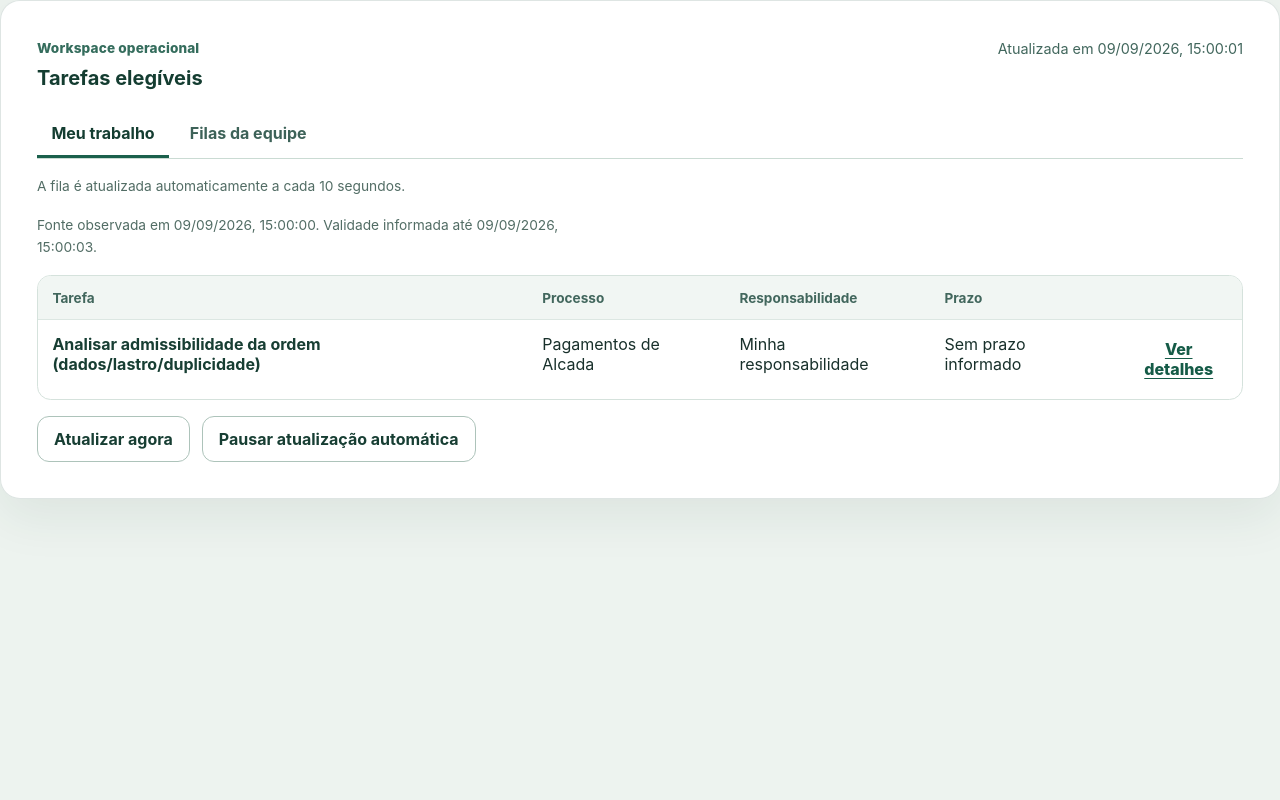
Test: the retained queue ceiling aborts both pending lanes and cannot be renewed by their late responses
The image size is (1280, 800).
Click the button named "Ver detalhes: Analisar admissibilidade da ordem (dados/lastro/duplicidade)": (1179, 360) [1130, 334, 1228, 385]
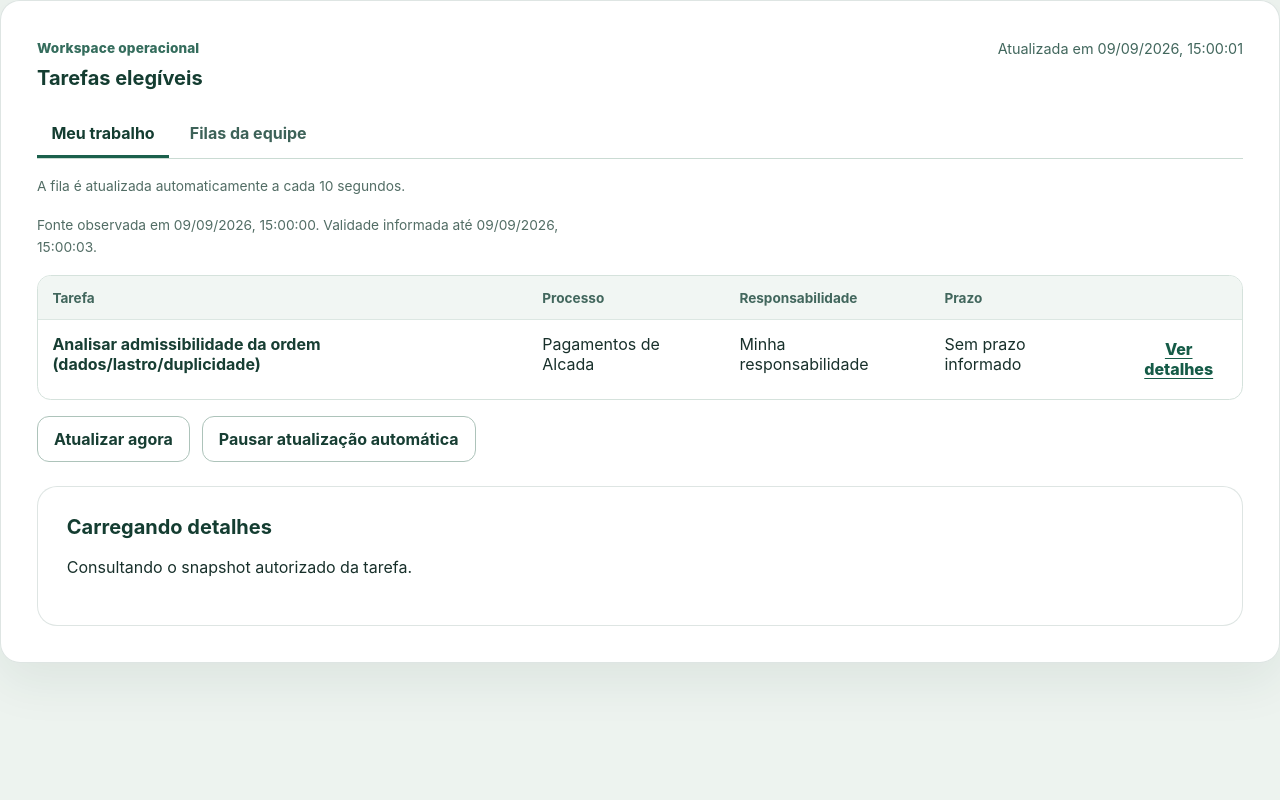
Click the button "Atualizar agora": (113, 439) [37, 416, 190, 462]
Wait 1001 ms
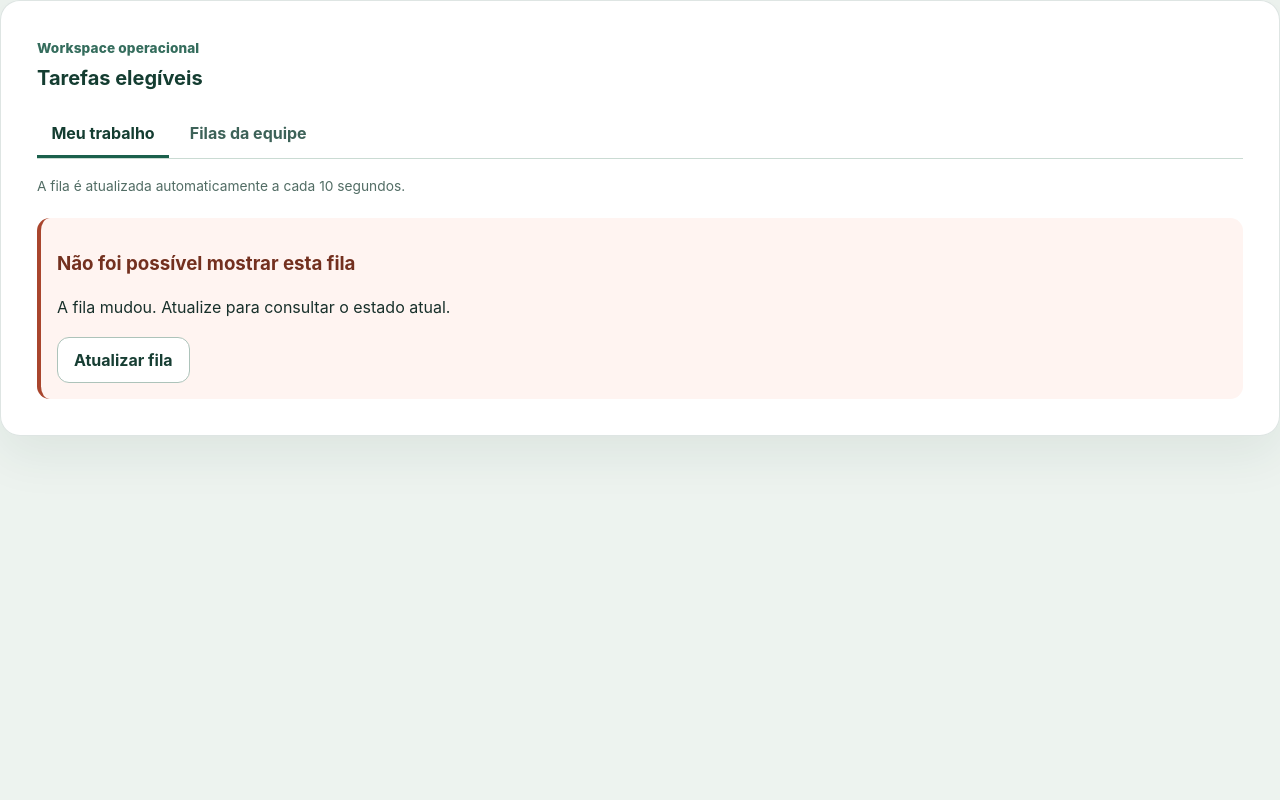
Result: the column heading "Analisar admissibilidade da ordem (dados/lastro/duplicidade)" is gone
Result: the message shows "A fila mudou" at [57, 297, 450, 317]
